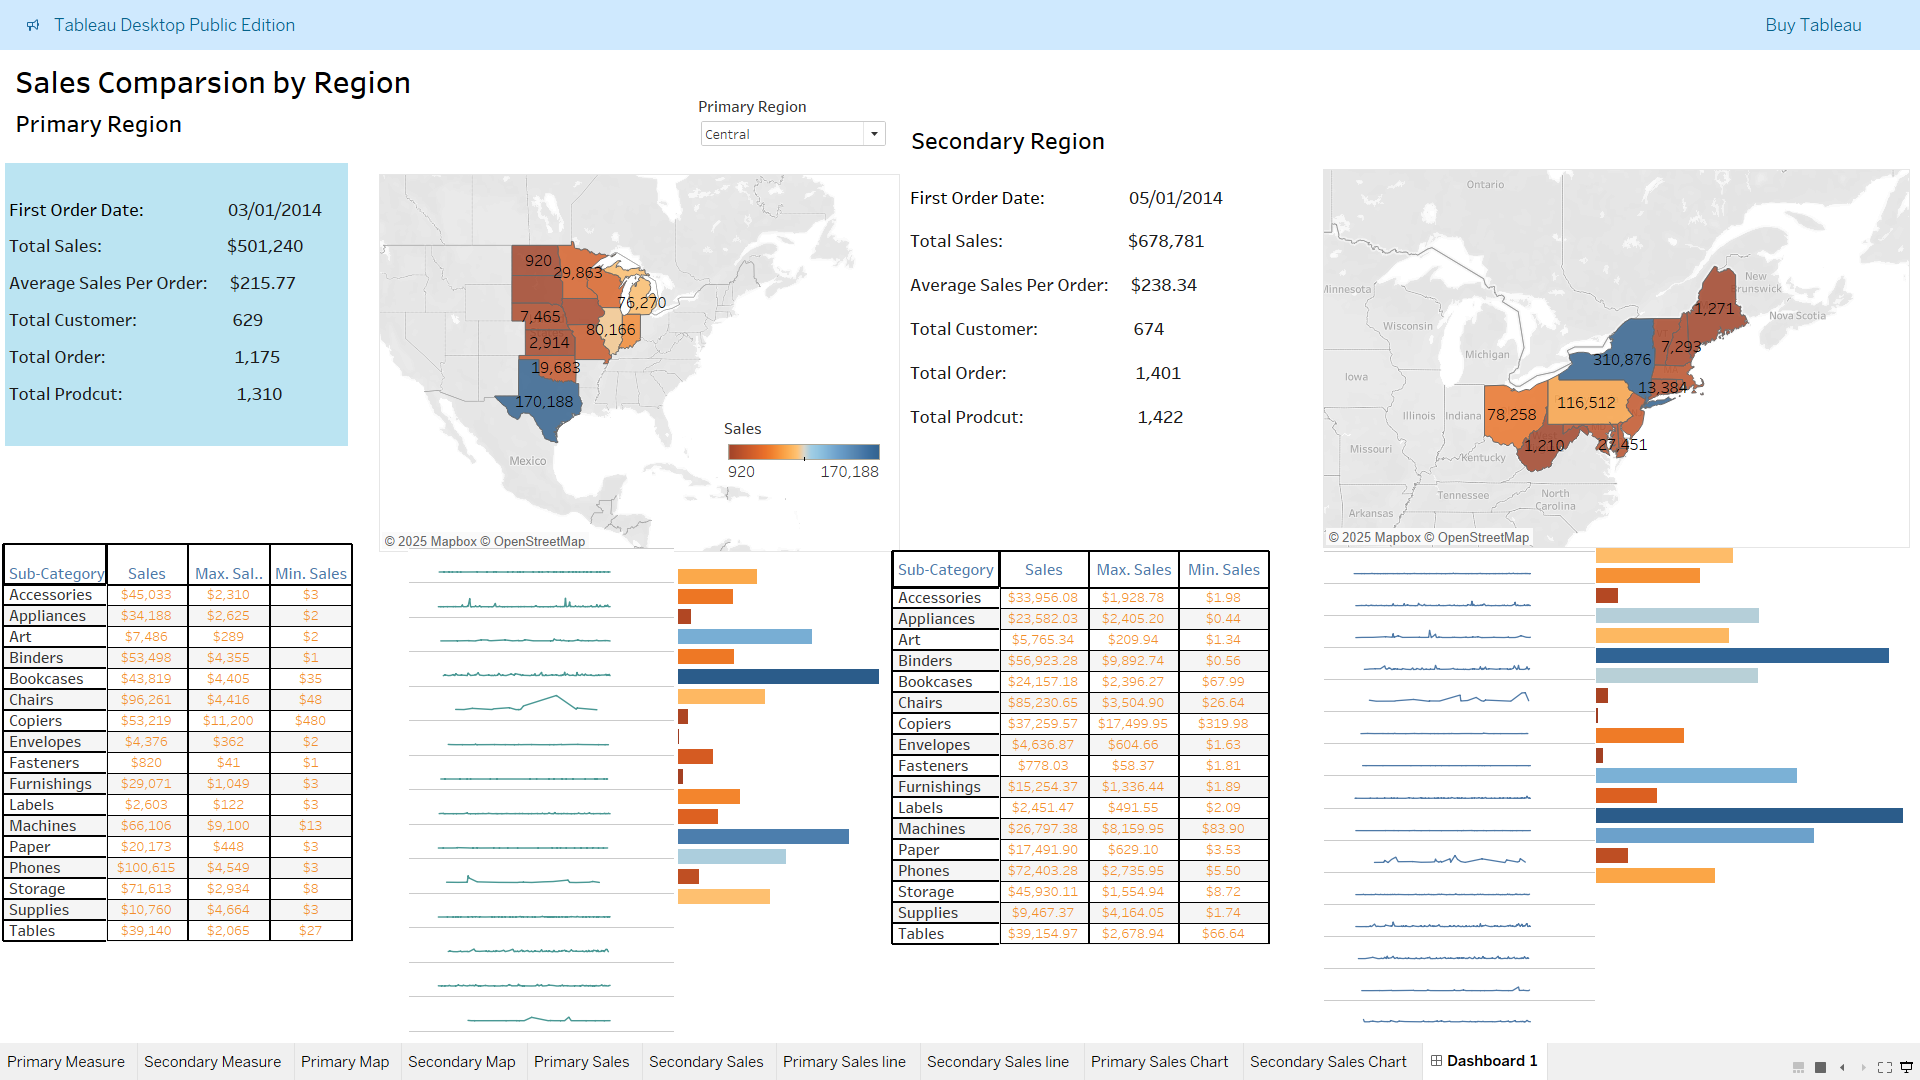

Layout of this report page (visuals, bound fields, positions):
{"tool":"tableau","page":{"name":"Dashboard 1","canvas":[1000,1000],"units":"permille","ordinal":0},"visuals":[{"type":"text","box":[4.8,10,990.3,56.2]},{"type":"filter","title":"Primary Map","param":"[federated.1kiomp1016qgq4127ceuf16atmok].[none:Region:nk]","box":[363.8,46.2,99.7,76.2]},{"type":"text","box":[4.8,66.2,990.3,49.9]},{"type":"text","box":[472.9,66.2,527.1,47.4]},{"type":"worksheet","title":"Primary Measure","mark":"Automatic","box":[2.4,113.6,229.6,423.2]},{"type":"worksheet","title":"Secondary Measure","mark":"Automatic","box":[471.9,113.6,250.2,494.4]},{"type":"worksheet","title":"Secondary Map","mark":"Automatic","box":[688.8,119.9,305.7,382]},{"type":"worksheet","title":"Primary Map","mark":"Automatic","box":[197.6,124.8,271.3,380.8]},{"type":"legend","title":"Primary Map","param":"[federated.1kiomp1016qgq4127ceuf16atmok].[sum:Sales:qk]","box":[377.3,370.8,83.2,109.9]},{"type":"worksheet","title":"Secondary Sales","mark":"Automatic","rows":["Sub-Category"],"box":[1.2,496.9,229,504.4]},{"type":"parameter","param":"[Parameters].[Parameter 1]","box":[829.6,496.9,170.4,69.9]},{"type":"worksheet","title":"Secondary Sales line","mark":"Automatic","rows":["Sub-Category","Sales"],"cols":["Order Date"],"box":[688.8,504.4,142,485.6]},{"type":"worksheet","title":"Primary Sales Chart","mark":"Automatic","rows":["Sub-Category"],"cols":["Sales"],"box":[350.4,515.6,114.8,439.4]},{"type":"filter","title":"Secondary Measure","param":"[federated.1kiomp1016qgq4127ceuf16atmok].[none:Region:nk]","box":[829.6,566.8,170.4,188.5]}]}

Visuals, with their boxes on the dashboard's canvas, which has no fixed pixel size, in thousandths of its width and height (x1, y1, x2, y2). These are canvas units, not pixel positions in the 1920x1080 screenshot, which may show the page scaled, cropped or inside an application window:
text: x1=5, y1=10, x2=995, y2=66
"Primary Map" filter: x1=364, y1=46, x2=464, y2=122
text: x1=5, y1=66, x2=995, y2=116
text: x1=473, y1=66, x2=1000, y2=114
"Primary Measure" worksheet: x1=2, y1=114, x2=232, y2=537
"Secondary Measure" worksheet: x1=472, y1=114, x2=722, y2=608
"Secondary Map" worksheet: x1=689, y1=120, x2=994, y2=502
"Primary Map" worksheet: x1=198, y1=125, x2=469, y2=506
"Primary Map" legend: x1=377, y1=371, x2=460, y2=481
"Secondary Sales" worksheet: x1=1, y1=497, x2=230, y2=1001
parameter: x1=830, y1=497, x2=1000, y2=567
"Secondary Sales line" worksheet: x1=689, y1=504, x2=831, y2=990
"Primary Sales Chart" worksheet: x1=350, y1=516, x2=465, y2=955
"Secondary Measure" filter: x1=830, y1=567, x2=1000, y2=755
